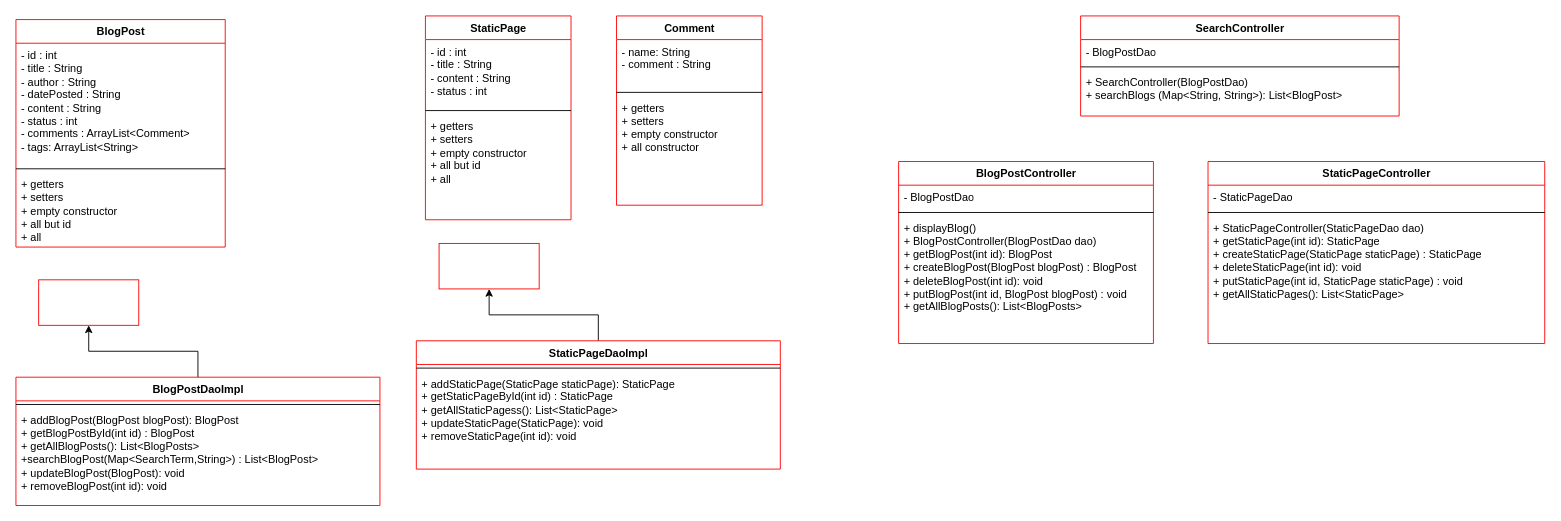
The diagram is 1561 pixels wide and 521 high, and some of its shapes have lost their labels. Here are the shapes that lost their labels. From the top down, the centre of each, then its label:
At [488,266]: "«interface» StaticPageDao".
At [88,302]: "«interface» BlogPostDao".
